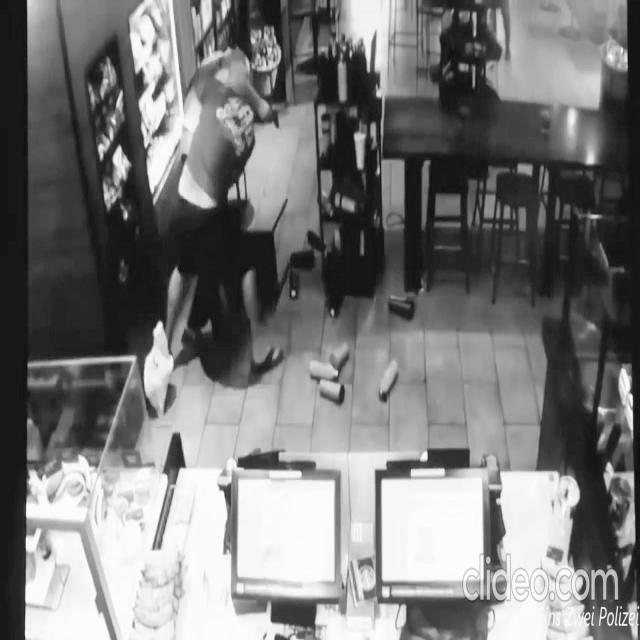gun: (265, 104, 281, 134)
person: (156, 46, 286, 383)
person with a gun: (180, 38, 281, 348)
